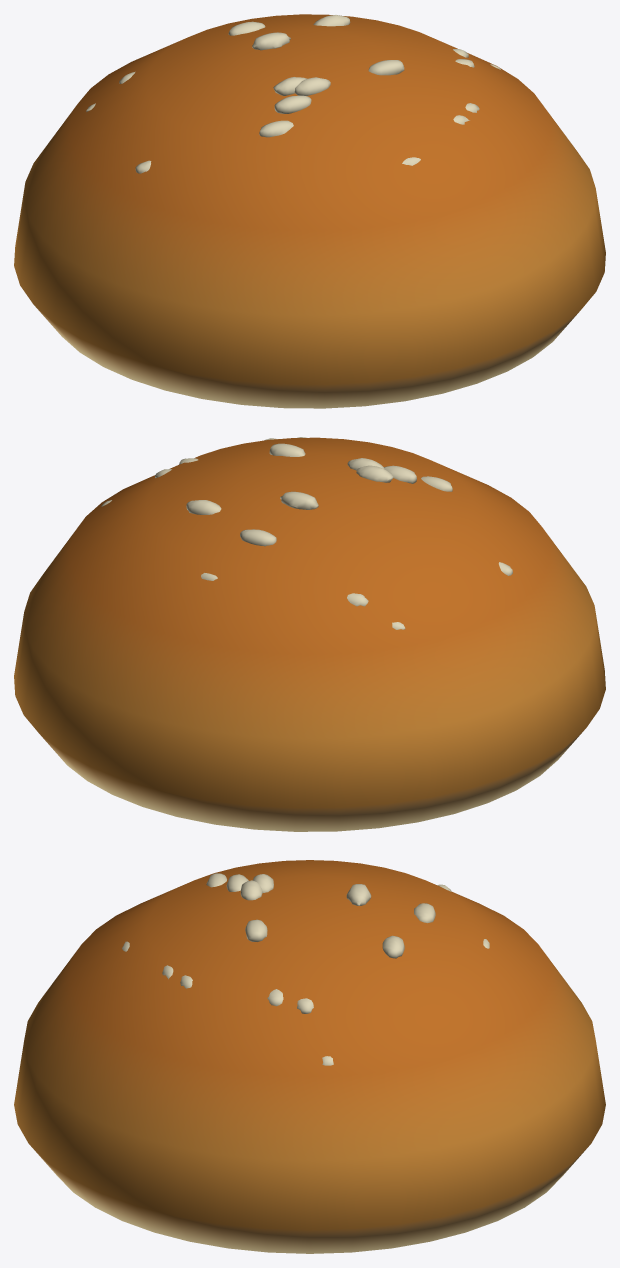
The model's file is top_bun.glb.
The picture shows the model from 3 angles, top to bottom: view 1: azimuth 30°, elevation 25°; view 2: azimuth 150°, elevation 25°; view 3: azimuth 270°, elevation 25°; orthographic projection.
Visible parts, largest first — view 1: top_bun; view 2: top_bun; view 3: top_bun.
Part boxes in pixels (x1,y1,x2,y2): top_bun: [14, 14, 605, 408]; top_bun: [14, 437, 605, 831]; top_bun: [14, 860, 605, 1253].
Size of the model in its own units: 0.116 by 0.0533 by 0.116.
